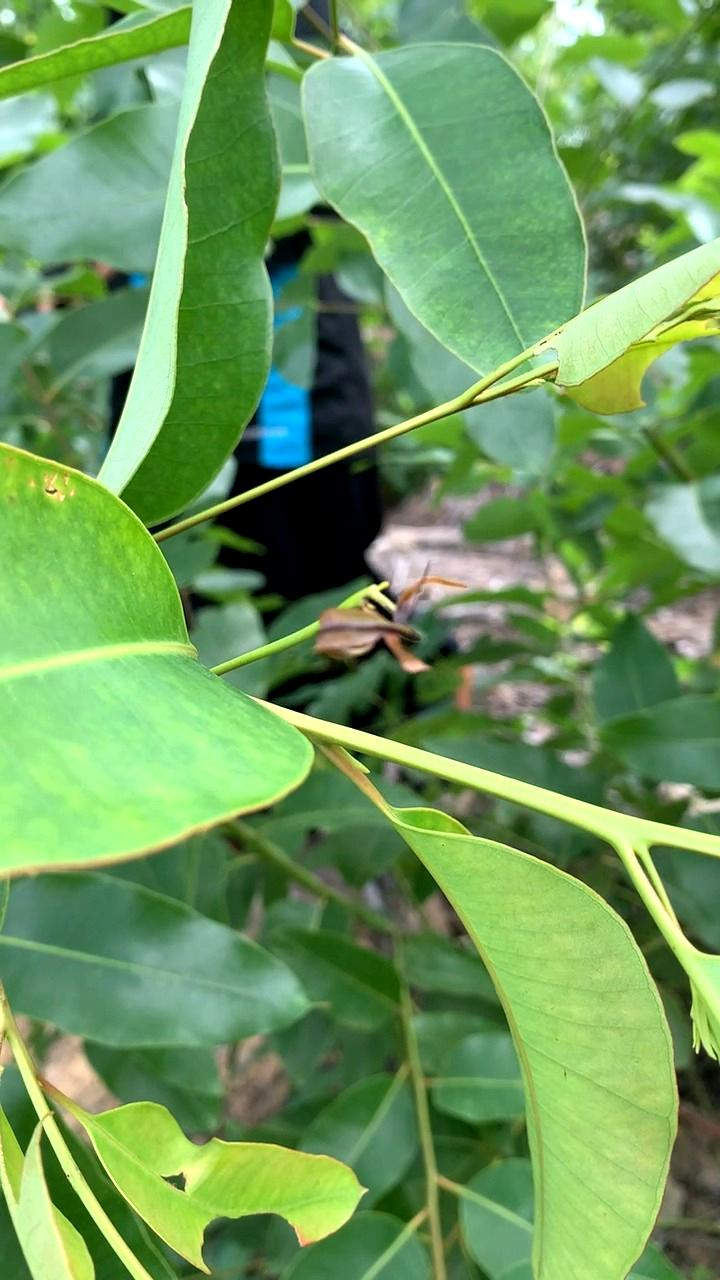Helopeltis-Withered Sprout: (316, 563, 473, 673)
